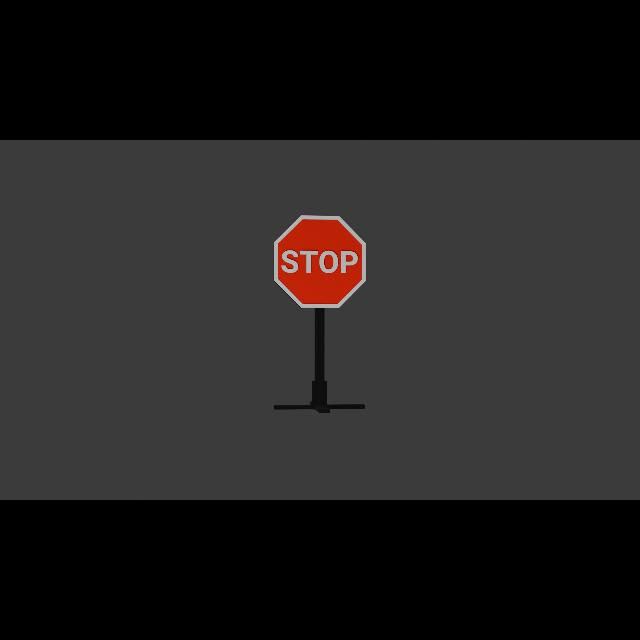sign_stop: (275, 216, 368, 310)
